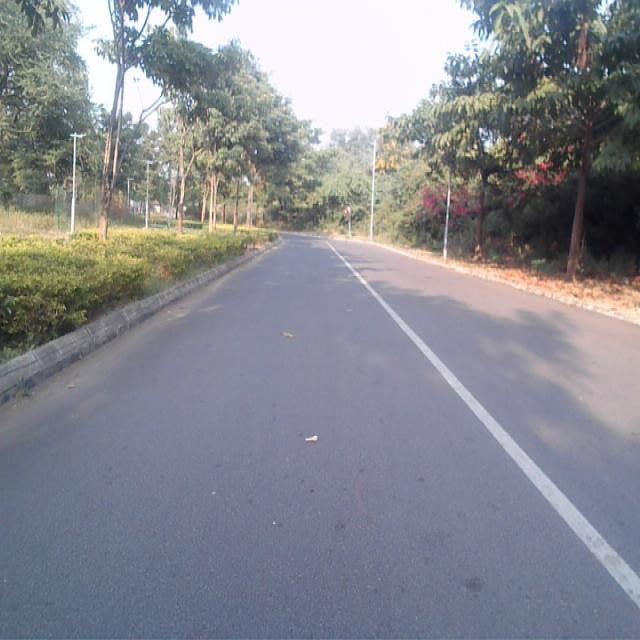lane: (0, 236, 640, 640)
